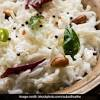curd_rice: (3, 3, 88, 92)
